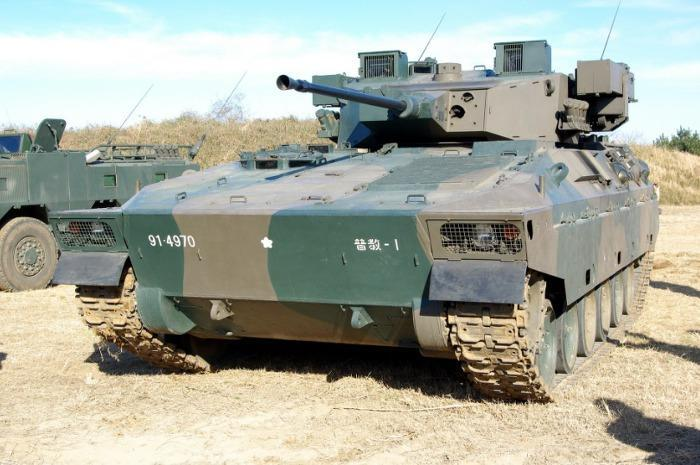MIL_IFV: (52, 31, 665, 401)
